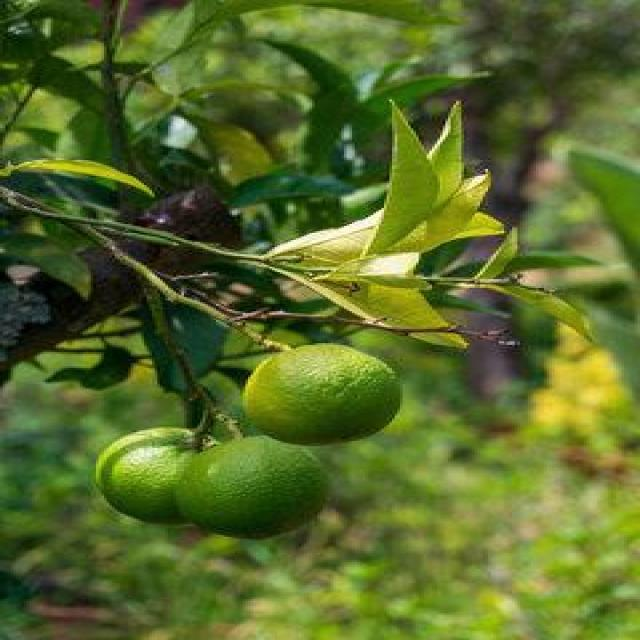Jeruk Belum Matang: (245, 343, 406, 445), (178, 434, 326, 538), (98, 427, 218, 522)
